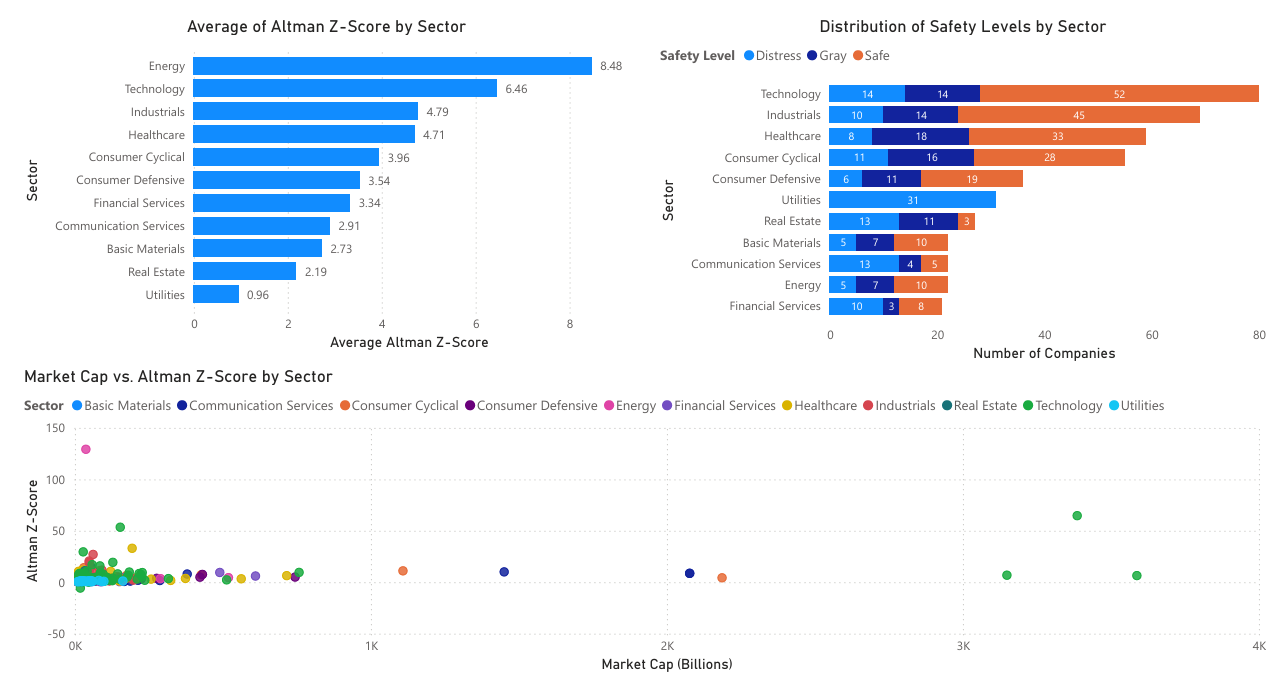

The page's visual inventory and layout, read from the dashboard file:
{"tool":"powerbi","page":{"name":"Page 1","canvas":[1280,720],"ordinal":0},"visuals":[{"type":"clusteredBarChart","fields":{"Category":["AltmanZ_Score_Analysis_Cleaned.Sector"],"Y":["Avg(AltmanZ_Score_Analysis_Cleaned.Altman Z-Score)"]},"box":[13.6,51.6,615.7,339.5],"z":0},{"type":"barChart","title":"Distribution of Safety Levels by Sector","fields":{"Category":["AltmanZ_Score_Analysis_Cleaned.Sector"],"Series":["AltmanZ_Score_Analysis_Cleaned.Safety Level"],"Y":["CountNonNull(AltmanZ_Score_Analysis_Cleaned.Ticker)"]},"box":[649.7,51.6,616.7,350.2],"z":1000},{"type":"scatterChart","title":"Market Cap vs. Altman Z-Score by Sector","fields":{"X":["AltmanZ_Score_Analysis_Cleaned.Market Cap (Billions)"],"Y":["AltmanZ_Score_Analysis_Cleaned.Altman Z-Score"],"Series":["AltmanZ_Score_Analysis_Cleaned.Sector"]},"box":[13.6,401.7,1252.8,311.2],"z":2000}]}

Visuals, with their boxes on the page's 1280x720 design canvas (x1, y1, x2, y2). These are canvas units, not pixel positions in the 1283x689 screenshot, which may show the page scaled, cropped or inside an application window:
clusteredBarChart - AltmanZ_Score_Analysis_Cleaned.Sector x Avg(AltmanZ_Score_Analysis_Cleaned.Altman Z-Score): [14,52,629,391]
"Distribution of Safety Levels by Sector" barChart: [650,52,1266,402]
"Market Cap vs. Altman Z-Score by Sector" scatterChart: [14,402,1266,713]
